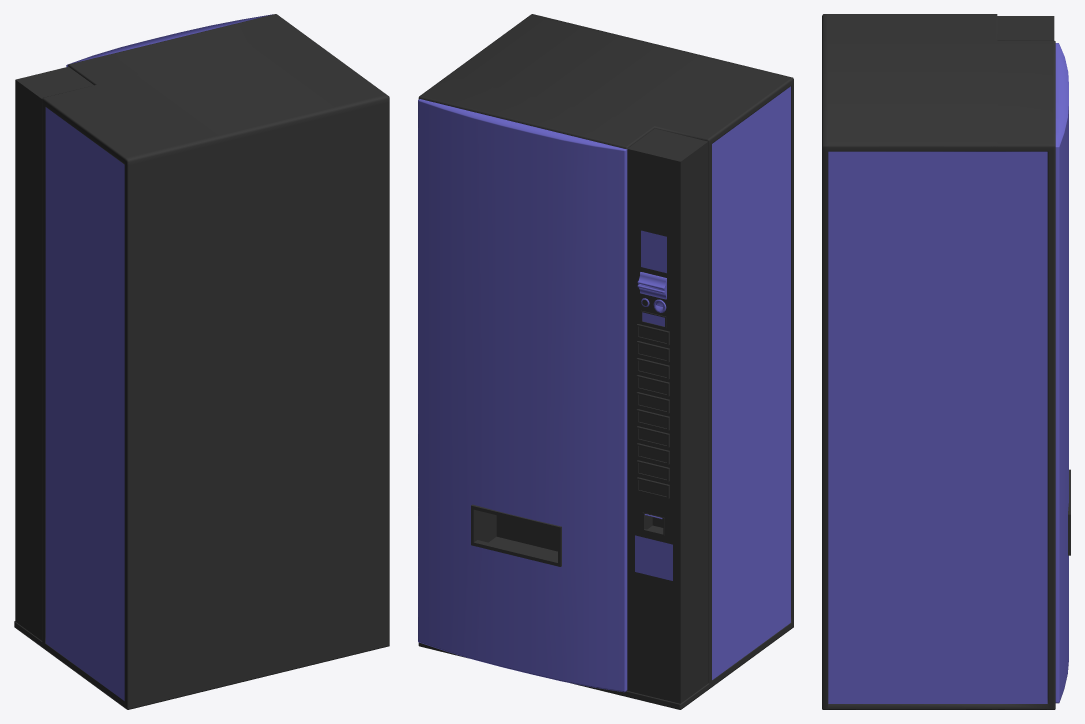
The model's file is VMP_MOD_Soda_machine_01.fbx.
3 views of the same model, side by side, from view 1: azimuth 30°, elevation 25°; view 2: azimuth 150°, elevation 25°; view 3: azimuth 270°, elevation 25° (orthographic). The views are drawn at different scales.
Parts seen in each view (by area): view 1: VMP_MOD_Soda_machine_01_02, VMP_MOD_Soda_machine_01_01; view 2: VMP_MOD_Soda_machine_01_01, VMP_MOD_Soda_machine_01_02; view 3: VMP_MOD_Soda_machine_01_01, VMP_MOD_Soda_machine_01_02.
Boxes of the visible parts, left/top/right/bottom form: VMP_MOD_Soda_machine_01_02: left=14, top=14, right=389, bottom=709; VMP_MOD_Soda_machine_01_01: left=45, top=14, right=272, bottom=700; VMP_MOD_Soda_machine_01_01: left=418, top=86, right=790, bottom=692; VMP_MOD_Soda_machine_01_02: left=418, top=14, right=793, bottom=709; VMP_MOD_Soda_machine_01_01: left=828, top=43, right=1068, bottom=703; VMP_MOD_Soda_machine_01_02: left=822, top=14, right=1070, bottom=709.
Bounding box in the file's own units: 1 × 2 × 0.7982.
